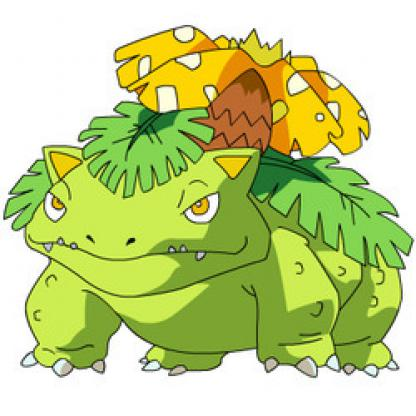Venusaur: (1, 39, 416, 398)
